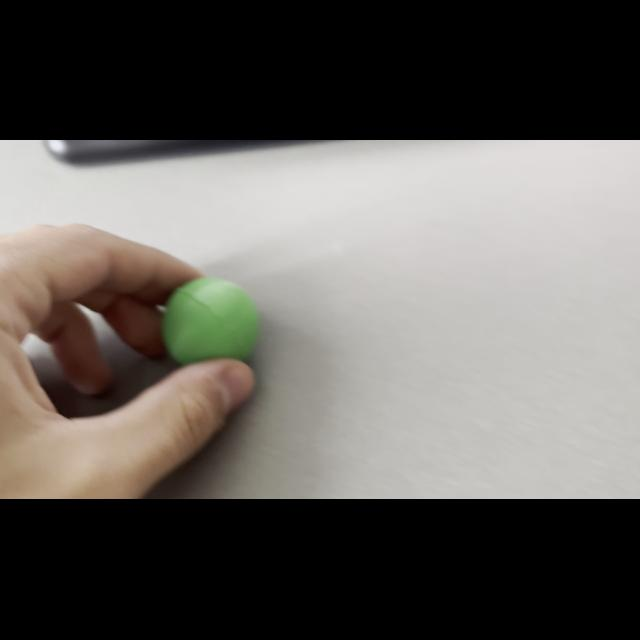objects: (156, 268, 264, 366)
